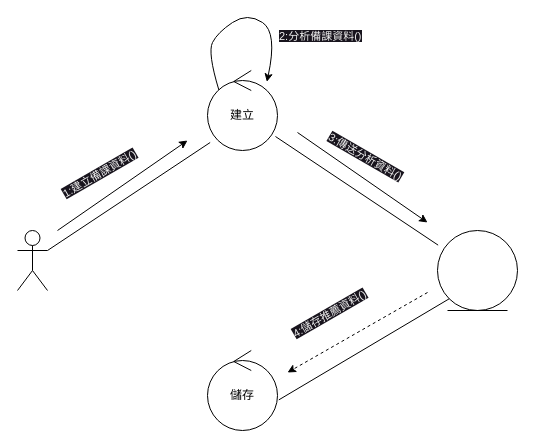
The diagram is 535 pixels wide and 448 high, and some of its shapes have lost their labels. Here are the shapes that lost their labels. From the top down, the centre of each, then its label:
At (x=32, y=260): "GPT".
At (x=477, y=270): "GPT資料庫".
